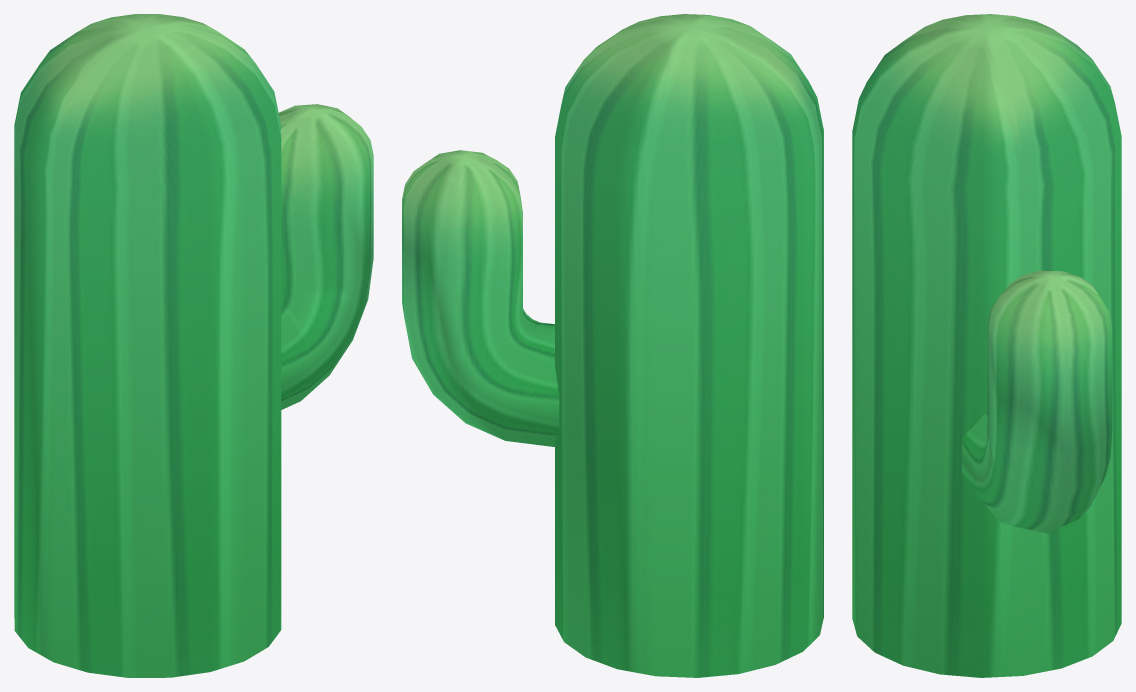
The model's file is cactus4.glb.
3 renders of one model, left to right at view 1: azimuth 30°, elevation 25°; view 2: azimuth 150°, elevation 25°; view 3: azimuth 270°, elevation 25°, orthographic.
Parts seen in each view (by area): view 1: Mesh_26_cactus_0; view 2: Mesh_26_cactus_0; view 3: Mesh_26_cactus_0.
Part boxes in pixels (x1,y1,x2,y2): Mesh_26_cactus_0: (14,14,373,677); Mesh_26_cactus_0: (402,14,823,677); Mesh_26_cactus_0: (852,14,1121,677).
Bounding box in the file's own units: 1.28 × 1.99 × 0.818.
Materials: 1 (1 with a texture image).
